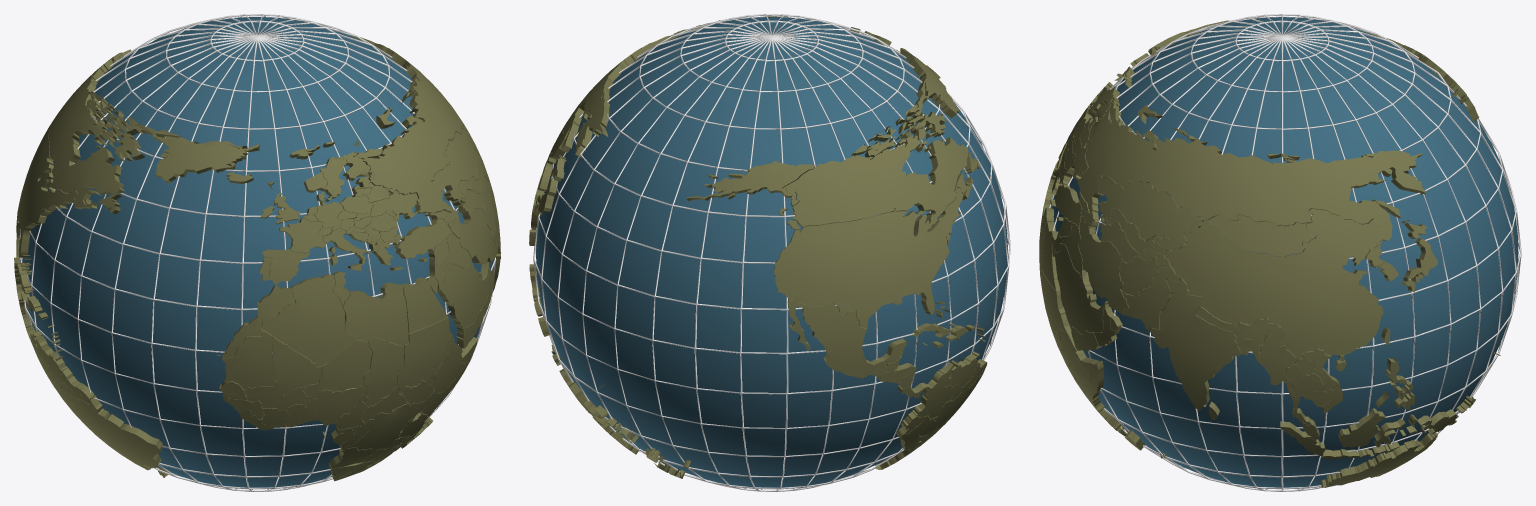
The model's file is Textured_Earth.fbx.
3 views of the same model, side by side, from view 1: azimuth 30°, elevation 25°; view 2: azimuth 150°, elevation 25°; view 3: azimuth 270°, elevation 25° (orthographic).
Visible parts, largest first — view 1: Globus, Countries, Globus_wireframe; view 2: Globus, Countries, Globus_wireframe; view 3: Globus, Countries, Globus_wireframe.
Part boxes in pixels (x1=…): Globus: x1=22, y1=17, x2=493, y2=487; Countries: x1=14, y1=35, x2=500, y2=481; Globus_wireframe: x1=18, y1=14, x2=496, y2=491; Globus: x1=536, y1=17, x2=1007, y2=487; Countries: x1=529, y1=15, x2=987, y2=478; Globus_wireframe: x1=533, y1=14, x2=1010, y2=491; Globus: x1=1051, y1=17, x2=1518, y2=487; Countries: x1=1039, y1=20, x2=1500, y2=487; Globus_wireframe: x1=1049, y1=14, x2=1521, y2=491.
Size of the model in its own units: 206 by 203 by 204.
